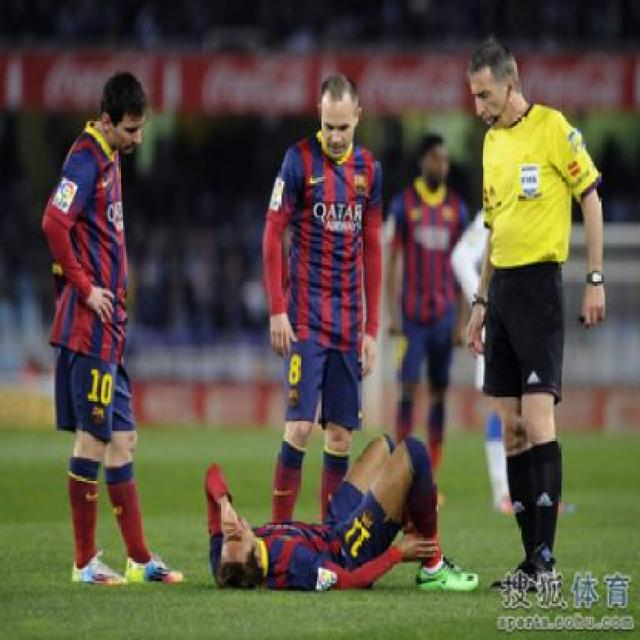fall: (194, 421, 469, 593)
